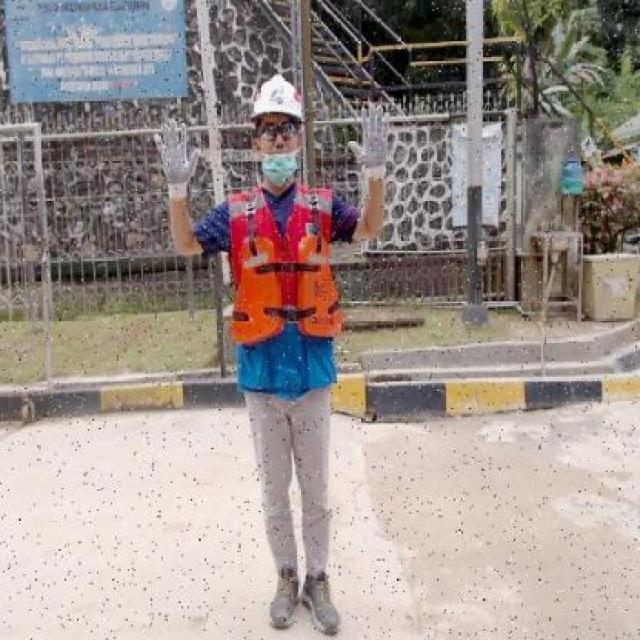Boots: (300, 570, 340, 636), (268, 567, 302, 628)
Gloves: (154, 117, 201, 201), (347, 102, 391, 182)
Helmet: (249, 74, 305, 121)
Mask: (260, 152, 297, 186)
Protective Glasses: (258, 119, 297, 136)
Vest: (229, 233, 343, 345)
